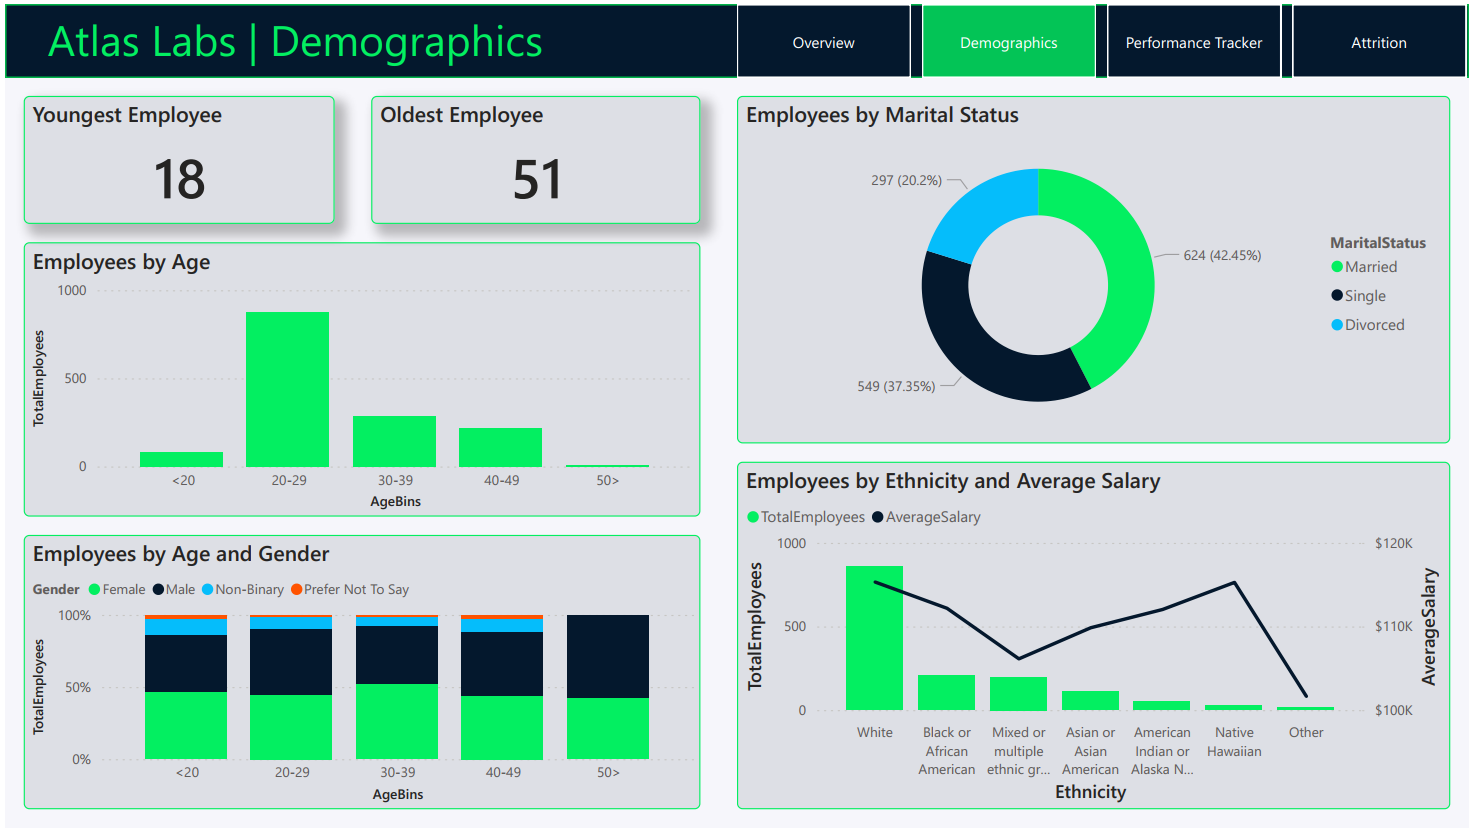

The dashboard page shown, as its layout file describes it:
{"tool":"powerbi","page":{"name":"Demographics","canvas":[1280,720],"ordinal":1},"visuals":[{"type":"card","title":"Youngest Employee","fields":{"Values":["Min(DimEmployee.Age)"]},"box":[16,80,272,112],"z":0},{"type":"card","title":"Oldest Employee","fields":{"Values":["Max(DimEmployee.Age)"]},"box":[320,80,288,112],"z":1000},{"type":"columnChart","title":"Employees by Age","fields":{"Category":["DimEmployee.AgeBins"],"Y":["_Measures.TotalEmployees"]},"box":[16,208,592,240],"z":2000},{"type":"hundredPercentStackedColumnChart","title":"Employees by Age and Gender","fields":{"Category":["DimEmployee.AgeBins"],"Series":["DimEmployee.Gender"],"Y":["_Measures.TotalEmployees"]},"box":[16,464,592,240],"z":3000},{"type":"donutChart","title":"Employees by Marital Status","fields":{"Category":["DimEmployee.MaritalStatus"],"Y":["_Measures.TotalEmployees"]},"box":[640,80,624,304],"z":4000},{"type":"lineStackedColumnComboChart","title":"Employees by Ethnicity and Average Salary","fields":{"Category":["DimEmployee.Ethnicity"],"Y":["_Measures.TotalEmployees"],"Y2":["_Measures.AverageSalary"]},"box":[640,400,624,304],"z":5000},{"type":"shape","box":[0,0,1280,64],"z":6000},{"type":"textbox","box":[32,0,624,64],"z":7000},{"type":"pageNavigator","box":[640,0,640,64],"z":8000}]}

Visuals, with their boxes in screenshot pixels (x1, y1, x2, y2), scaled from the page's 1280x720 canvas onto the 1481x838 screenshot:
"Youngest Employee" card: (left=19, top=93, right=333, bottom=223)
"Oldest Employee" card: (left=370, top=93, right=703, bottom=223)
"Employees by Age" columnChart: (left=19, top=242, right=703, bottom=521)
"Employees by Age and Gender" hundredPercentStackedColumnChart: (left=19, top=540, right=703, bottom=819)
"Employees by Marital Status" donutChart: (left=740, top=93, right=1462, bottom=447)
"Employees by Ethnicity and Average Salary" lineStackedColumnComboChart: (left=740, top=466, right=1462, bottom=819)
shape: (left=0, top=0, right=1480, bottom=74)
textbox: (left=37, top=0, right=759, bottom=74)
pageNavigator: (left=740, top=0, right=1480, bottom=74)
